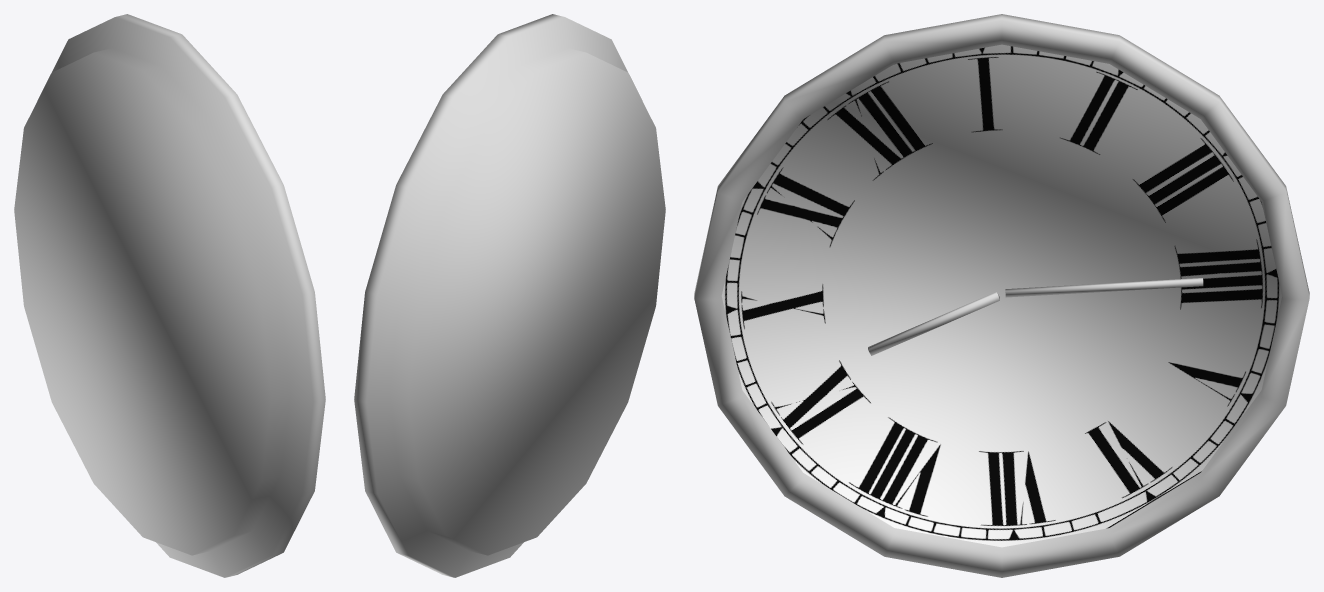
The model's file is Uhr.fbx.
3 views of the same model, side by side, from view 1: azimuth 30°, elevation 25°; view 2: azimuth 150°, elevation 25°; view 3: azimuth 270°, elevation 25° (orthographic). The views are drawn at different scales.
Visible parts, largest first — view 1: Uhr; view 2: Uhr; view 3: Uhr.
Part boxes in pixels (bbox=[...]): Uhr: bbox=[14, 14, 325, 577]; Uhr: bbox=[354, 14, 665, 577]; Uhr: bbox=[694, 14, 1309, 577].
Size of the model in its own units: 3.51 by 44.17 by 44.17.
